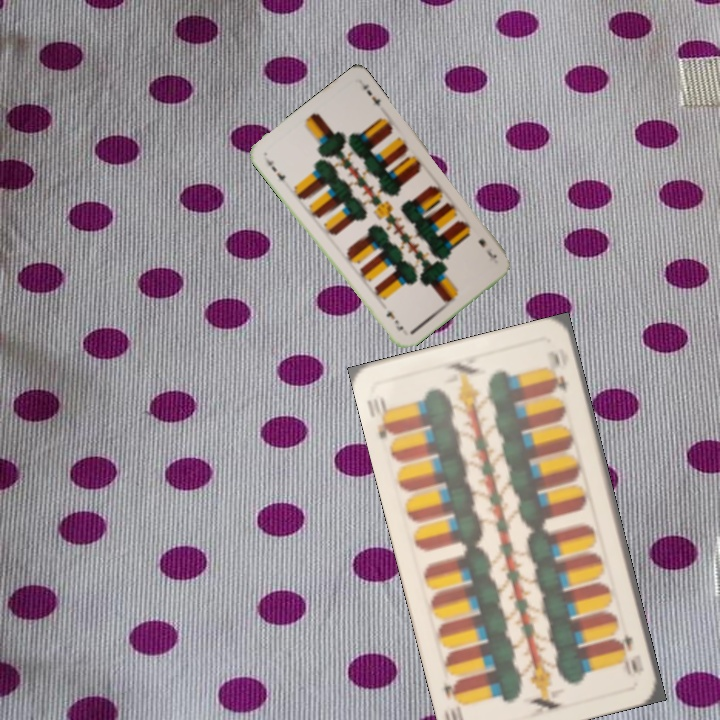E10: (615, 630, 646, 677), (373, 393, 399, 442)
E7: (261, 153, 288, 183), (474, 235, 500, 261)
